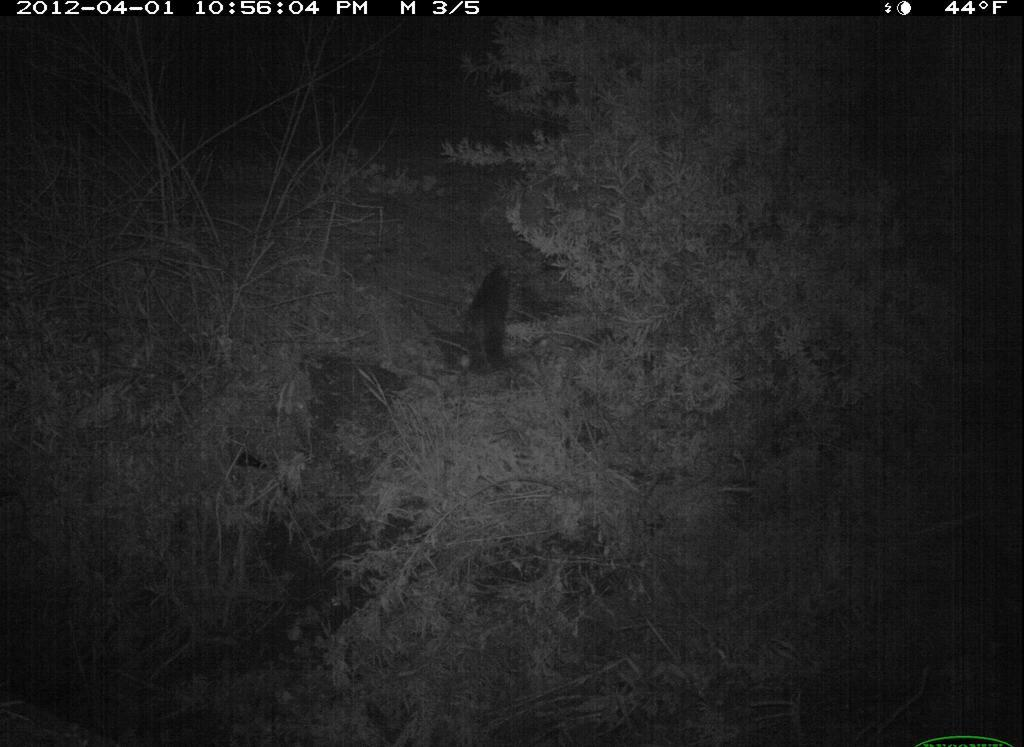cat: (456, 253, 524, 385)
